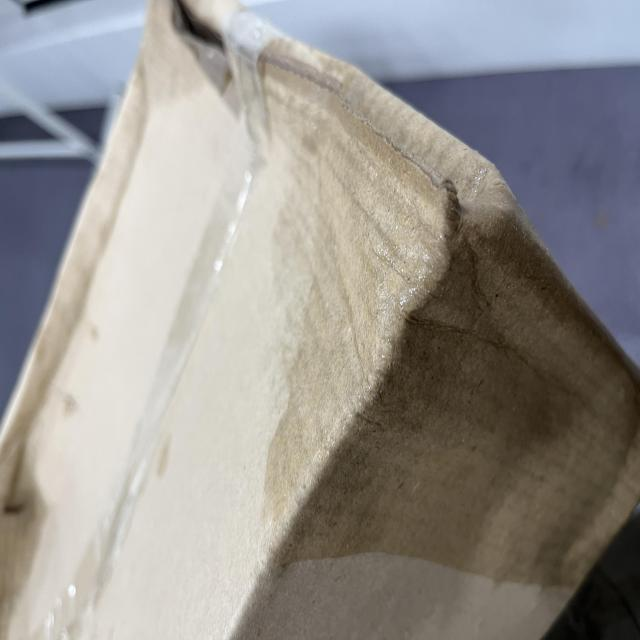wet: (34, 344, 440, 640)
